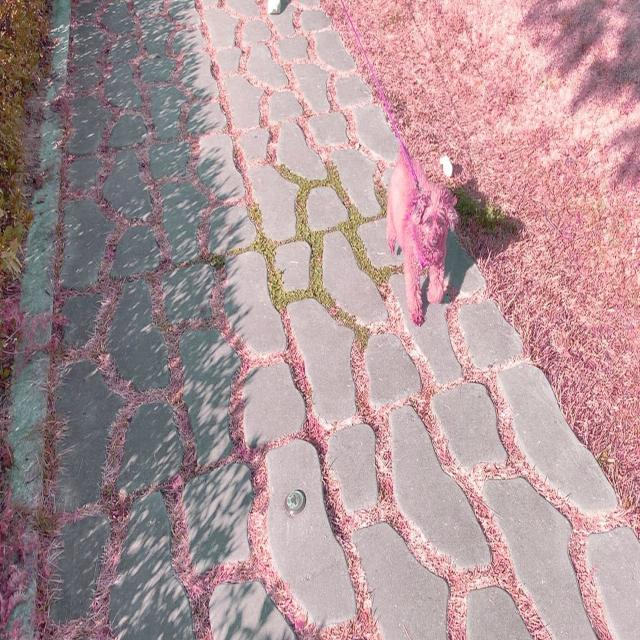Dog: (386, 139, 458, 327)
